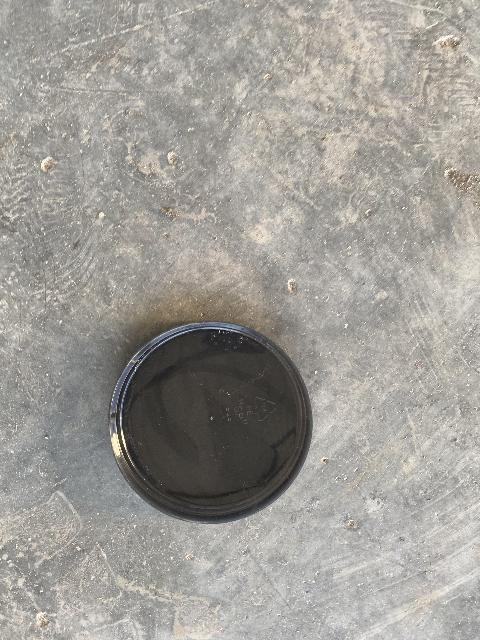Plastik: (111, 324, 306, 521)
